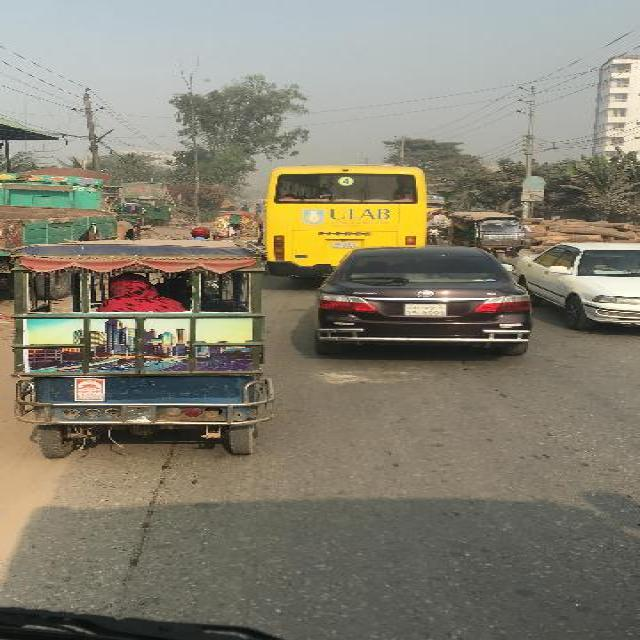auto rickshaw: (11, 242, 281, 464), (450, 210, 524, 262)
car: (316, 244, 534, 360), (520, 244, 639, 338)
minibus: (261, 164, 432, 276)
motorbike: (426, 224, 442, 244)
rickshaw: (212, 210, 262, 247), (120, 202, 140, 228), (430, 208, 452, 224)
truck: (1, 168, 141, 240)
